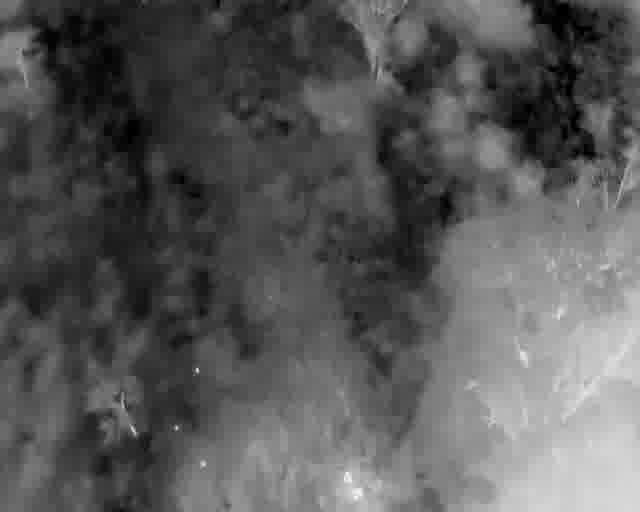person: (350, 486, 365, 503), (343, 470, 351, 482)
